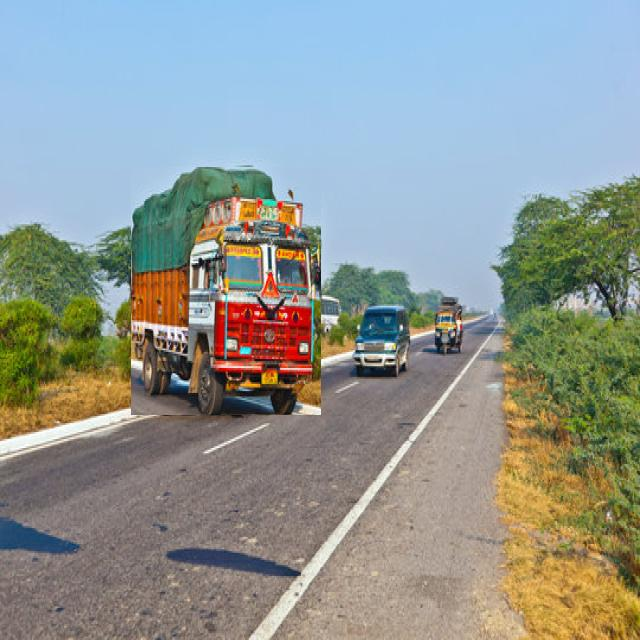autorickshaw: (435, 296, 462, 353)
car: (355, 308, 410, 376)
truck: (131, 167, 321, 415)
